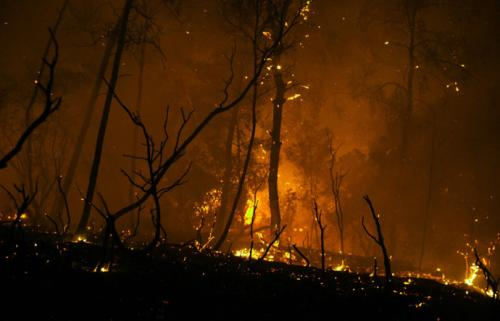fire: (239, 197, 281, 262), (462, 257, 486, 290)
smoke: (294, 70, 455, 257), (51, 49, 196, 216)
